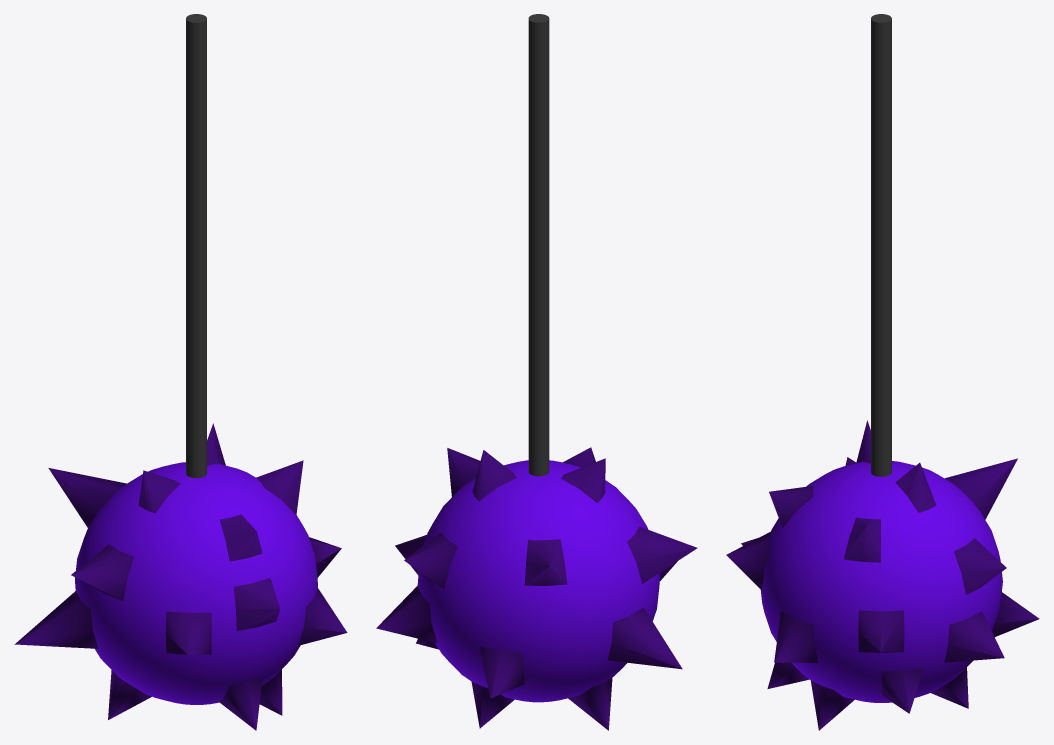
File: war hammer hanging.fbx
The picture shows the model from 3 angles, left to right: view 1: azimuth 30°, elevation 25°; view 2: azimuth 150°, elevation 25°; view 3: azimuth 270°, elevation 25°; orthographic projection.
Visible parts, largest first — view 1: Sphere, Sphere.001, Cylinder; view 2: Sphere, Sphere.001, Cylinder; view 3: Sphere, Sphere.001, Cylinder.
Part boxes in pixels (x1,y1,x2,y2): Sphere: (75, 462, 317, 704); Sphere.001: (14, 423, 347, 730); Cylinder: (186, 14, 206, 478); Sphere: (417, 460, 659, 702); Sphere.001: (376, 447, 697, 730); Cylinder: (528, 14, 549, 476); Sphere: (760, 461, 1002, 702); Sphere.001: (726, 420, 1039, 730); Cylinder: (871, 14, 891, 476).
Bounding box in the file's own units: 718 × 1535 × 635.
